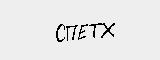Е: (76, 23, 90, 41)
П: (66, 23, 77, 44)
С: (54, 22, 65, 45)
Т: (88, 20, 100, 41)
Х: (101, 19, 116, 41)
